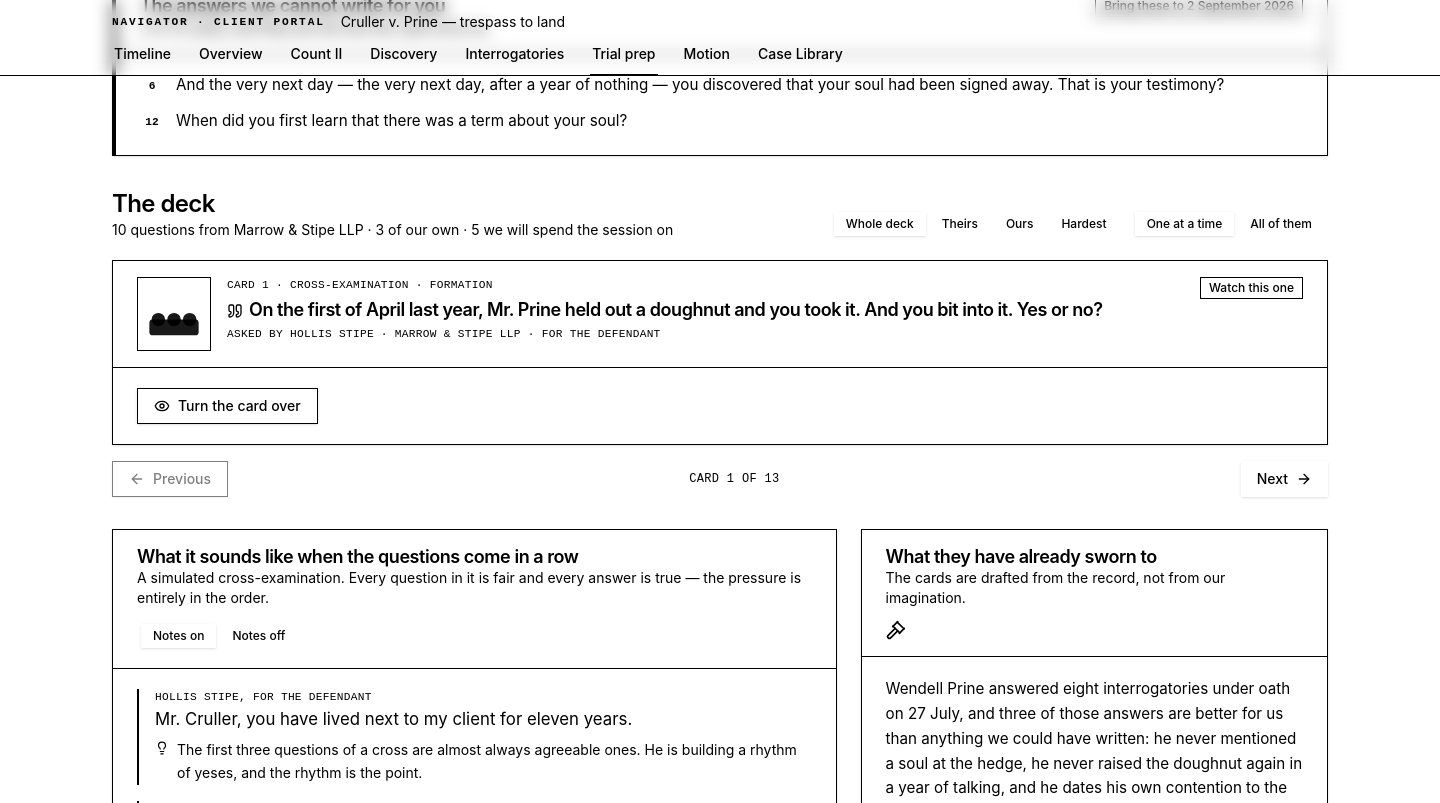
Test: the trial preparation page › takes the answer back down when the next question arrives
(page scrolled)
What coordinates should you click on to do the following:
click the button "Turn the card over"
I would click on:
 (227, 406)
Its box is [137,388,318,424].
(page scrolled)
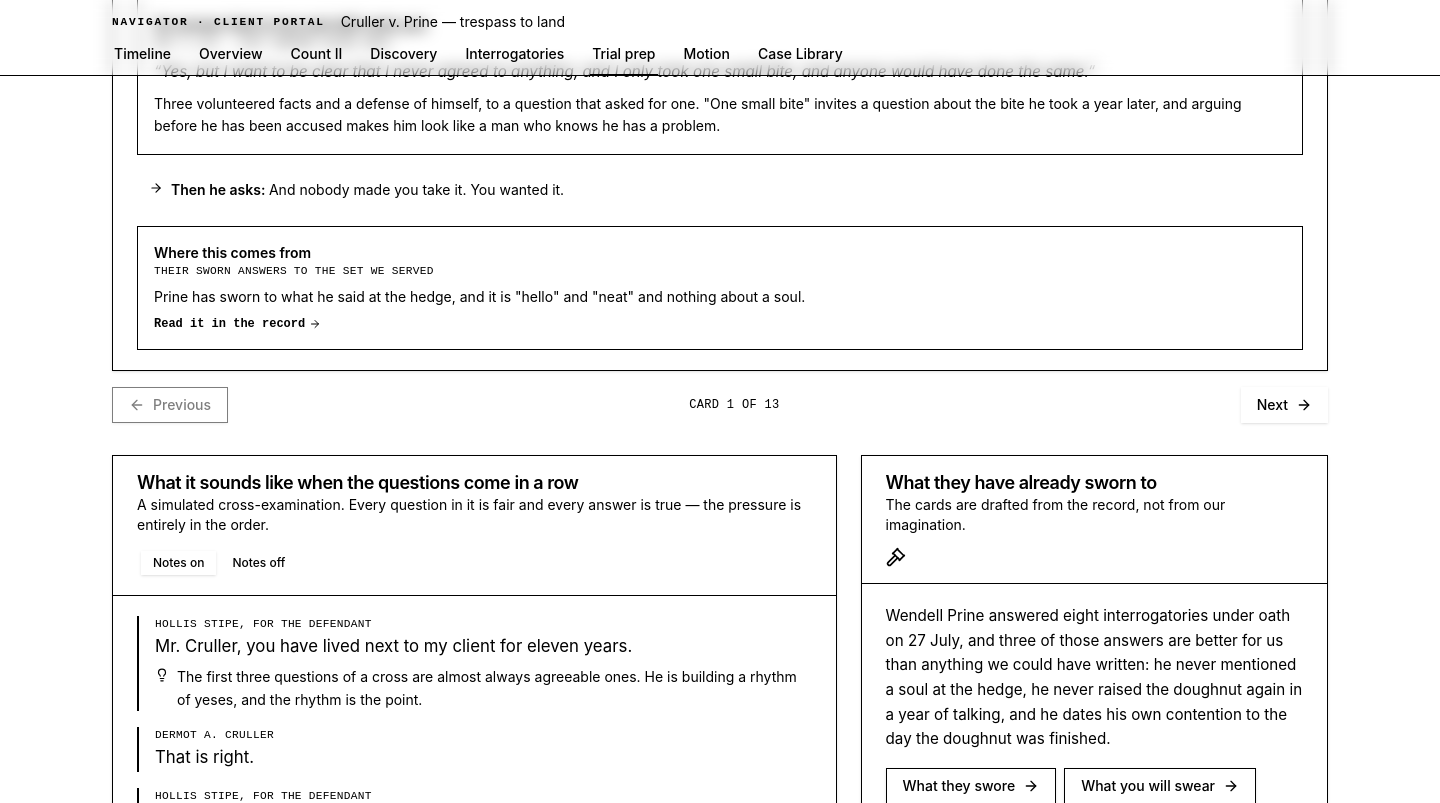
What coordinates should you click on to do the following:
click the button "Next"
I would click on:
 (1284, 405)
Its box is [1241,387,1328,423].
(page scrolled)
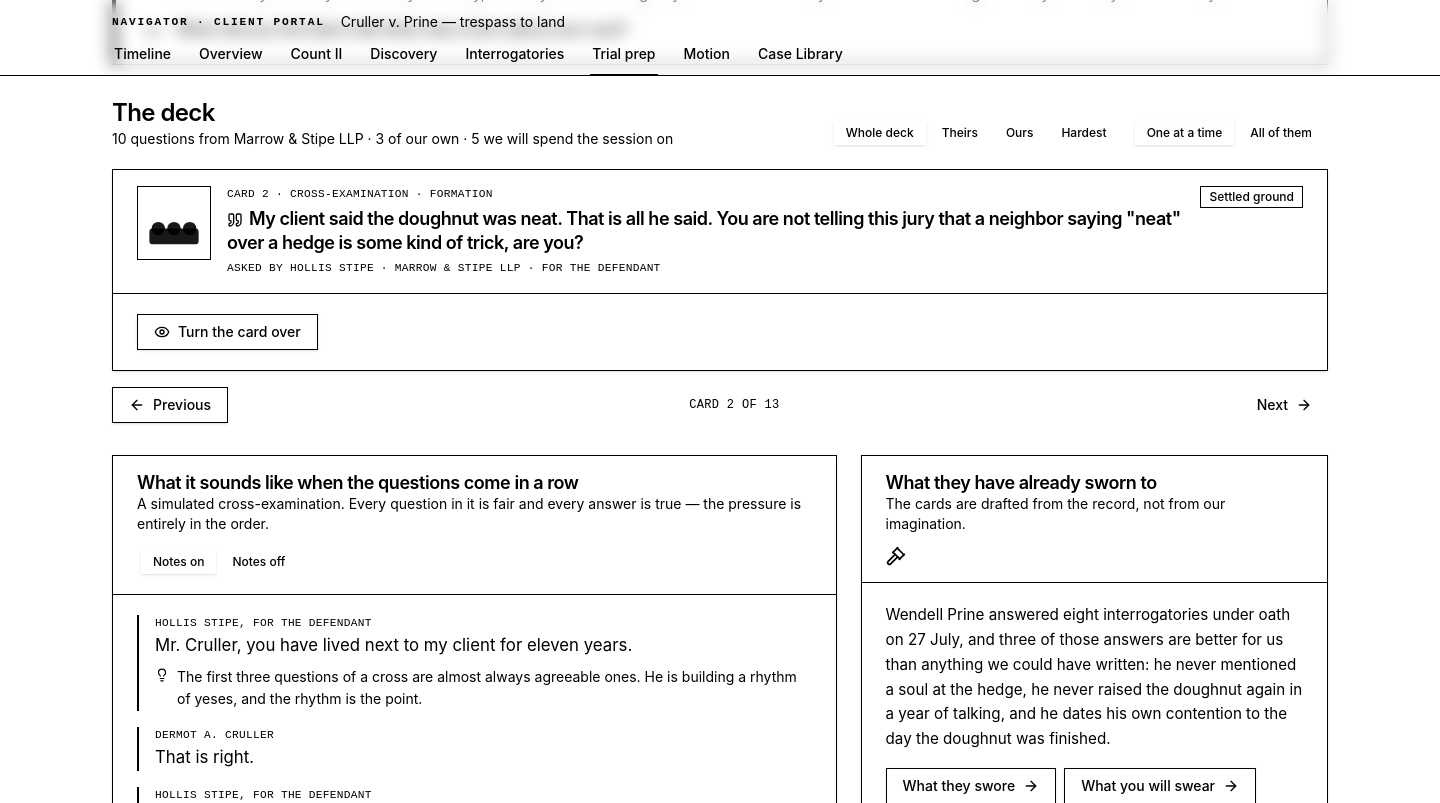
Check: the element "My client said the doughnut was neat. Th" is shown, box [112,169,1328,371]
Check: the button "Turn the card over" is shown, box [137,314,318,350]
